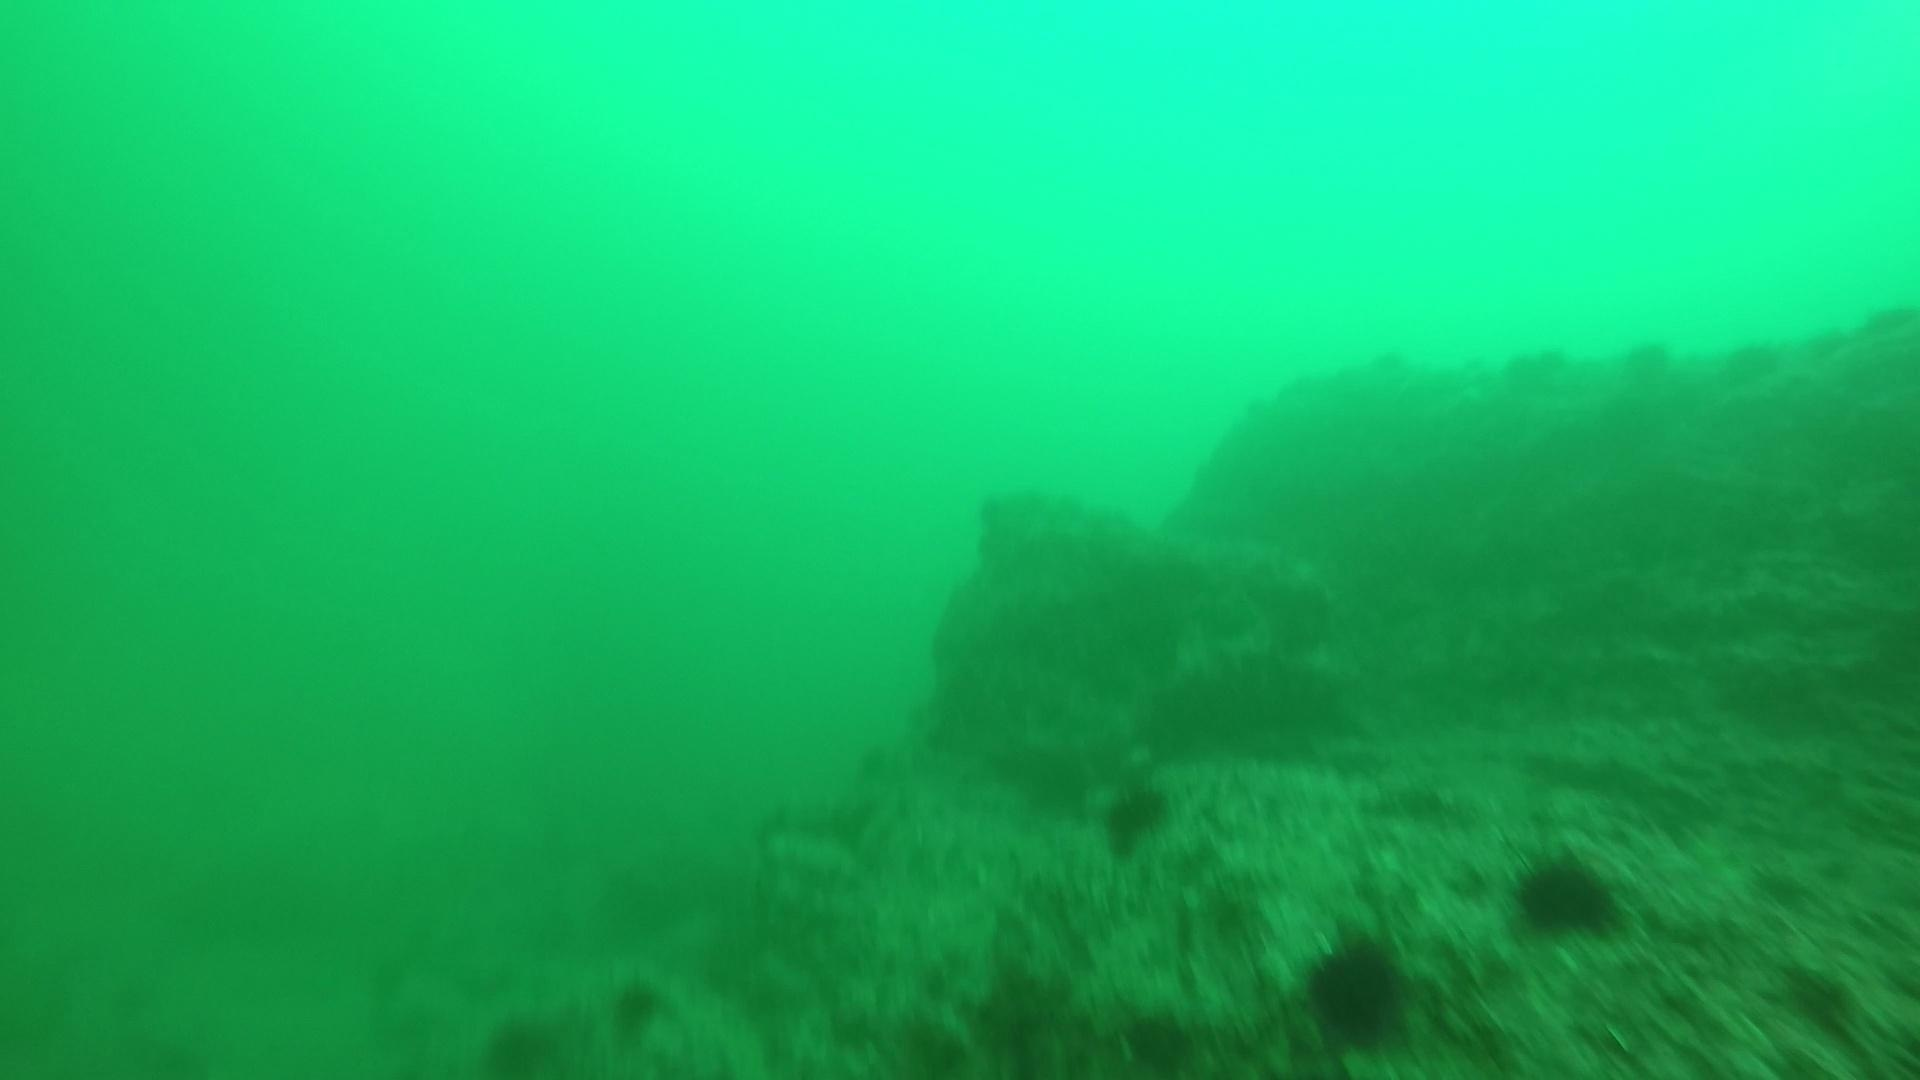echinus: (1298, 927, 1415, 1052), (1506, 844, 1625, 943), (1095, 773, 1178, 856), (477, 1010, 562, 1077), (603, 972, 671, 1040)
